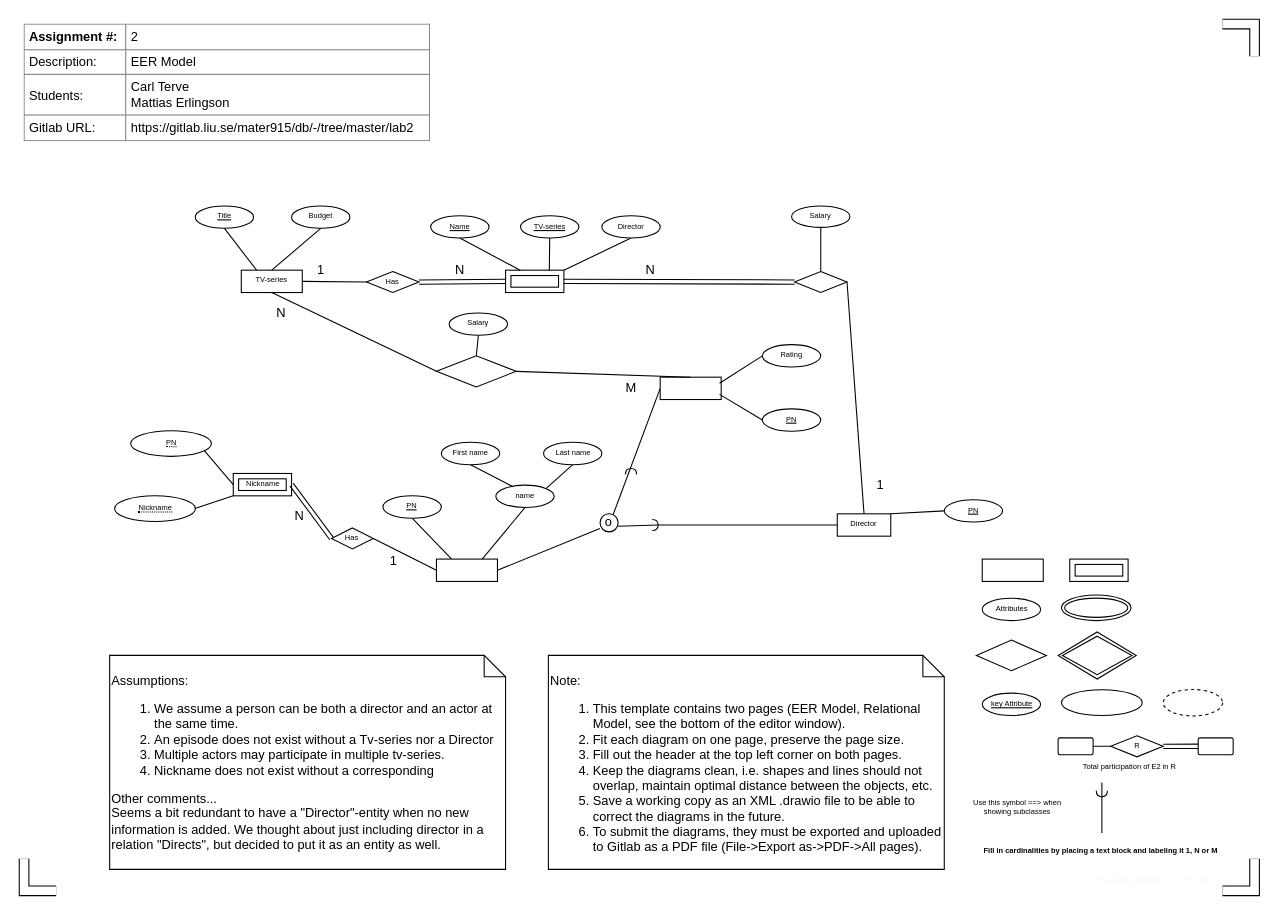
The diagram is 1279 pixels wide and 919 high, and some of its shapes have lost their labels. Here are the shapes that lost their labels. From the top down, the box of each, then its label:
(505, 269, 564, 293): Episode
(793, 270, 847, 293): Directs
(435, 355, 516, 387): Participates
(659, 376, 721, 400): Actor
(435, 558, 497, 581): Person
(981, 558, 1043, 581): Entity
(1069, 558, 1128, 581): weak entity
(1060, 594, 1131, 621): multivalued attribute
(975, 639, 1046, 671): Relationship
(1057, 631, 1136, 679): identifying relationship
(1060, 689, 1142, 716): part of key attribute
(1162, 688, 1223, 716): derived attribute
(1057, 737, 1093, 755): E1
(1197, 737, 1233, 755): E2
